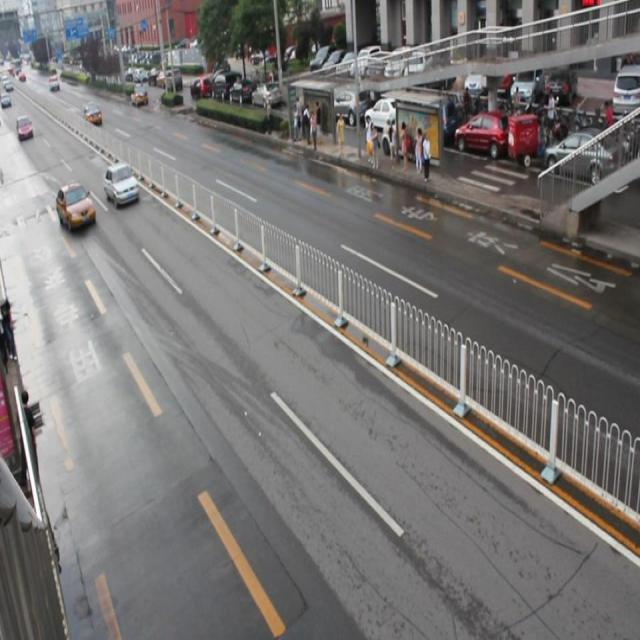car: (55, 180, 95, 232), (103, 162, 140, 210)
